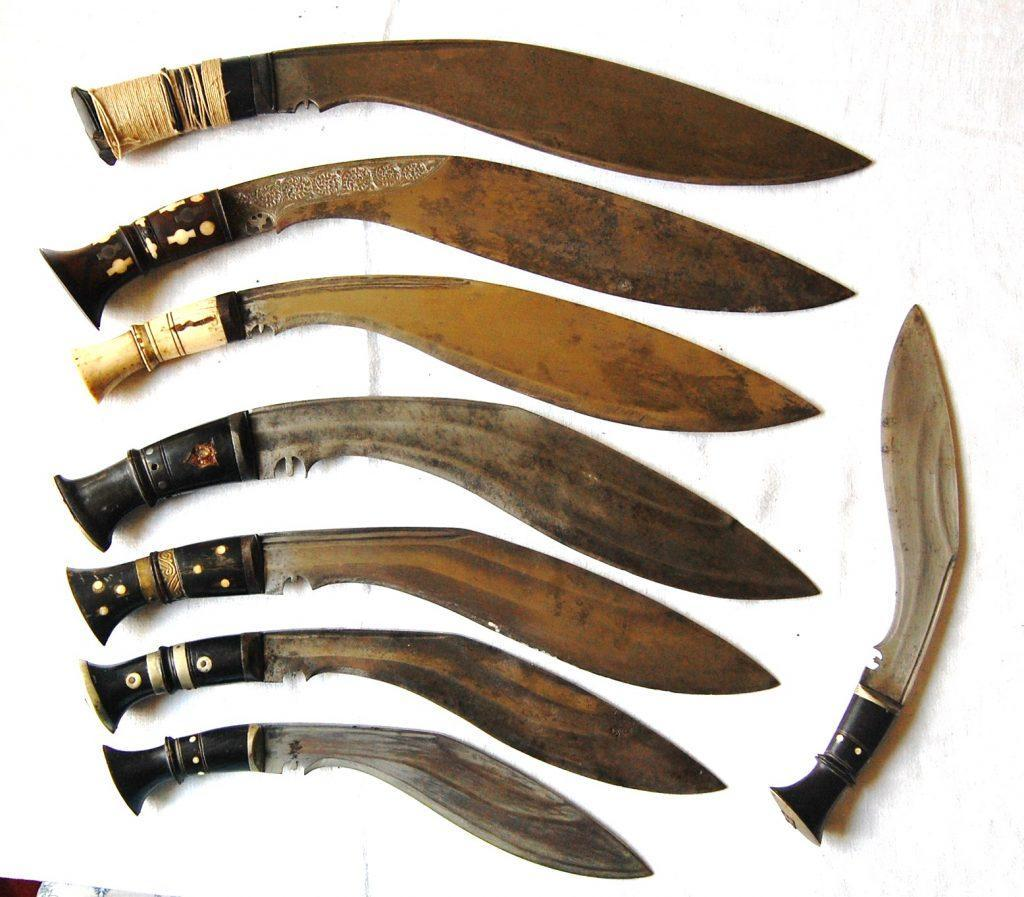facao: (48, 383, 828, 612), (22, 148, 869, 334), (50, 262, 848, 445), (64, 27, 894, 198), (57, 530, 845, 708), (67, 612, 745, 813), (754, 282, 982, 854), (92, 707, 674, 894)
